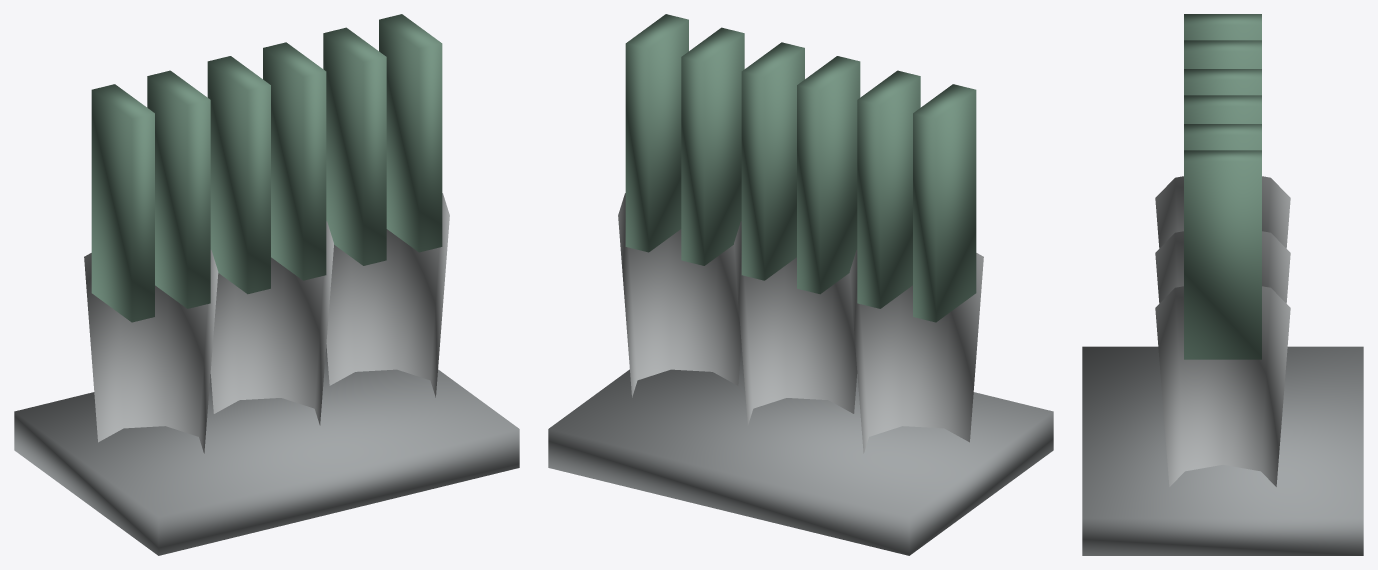
File: standing_floral_display.glb
3 views of the same model, side by side, from view 1: azimuth 30°, elevation 25°; view 2: azimuth 150°, elevation 25°; view 3: azimuth 270°, elevation 25° (orthographic). The views are drawn at different scales.
Visible parts, largest first — view 1: world; view 2: world; view 3: world.
Part boxes in pixels (left/top/right/bottom): world: left=14, top=14, right=519, bottom=555; world: left=548, top=14, right=1053, bottom=555; world: left=1082, top=14, right=1363, bottom=555.
Size of the model in its own units: 0.78 by 0.81 by 0.54.
